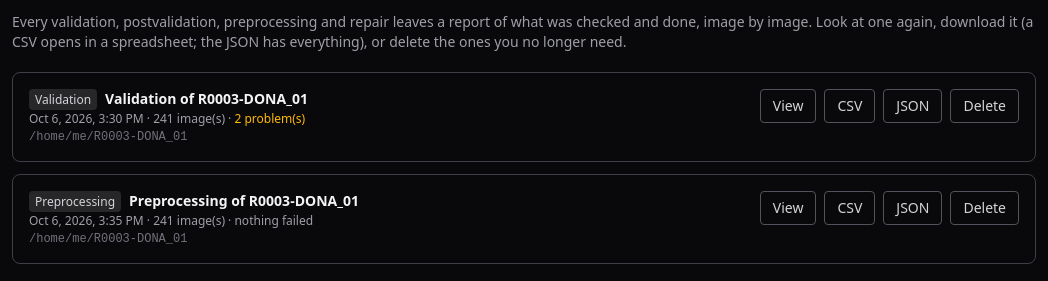
Test: ReportsList › deletes a report only after asking again
The width and height of the screenshot is (1048, 281).
Check: the list item "Validation of R0003-DONA_01" is shown, box [12,72,1036,162]
Click the button "Delete" in the row of "Validation of R0003-DONA_01" at (985, 106), box [950,89,1019,123]
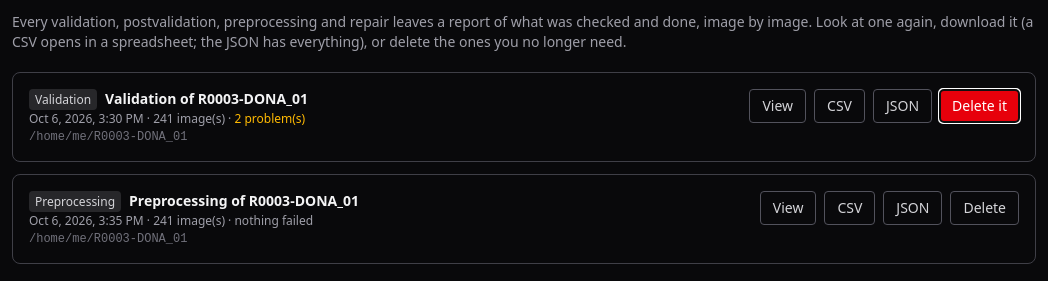
Click the button "Delete it" at (980, 106), box [940,90,1019,122]
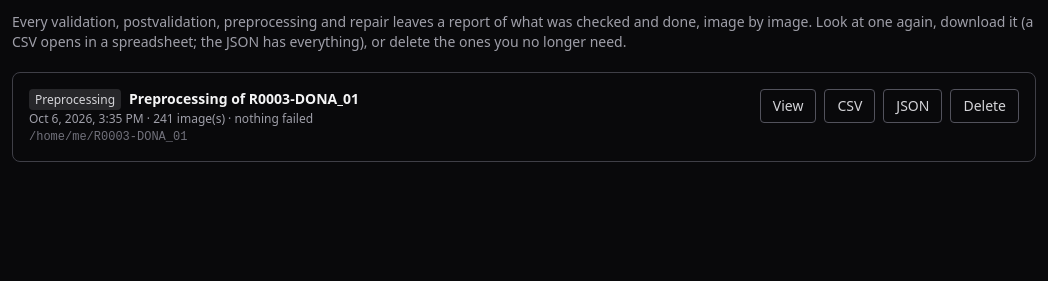
Check: the list item "Validation of R0003-DONA_01" is gone
